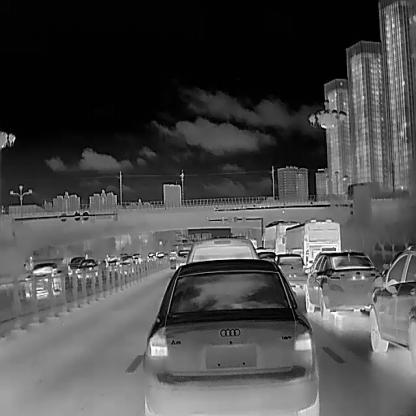car: (143, 258, 319, 415), (369, 245, 416, 365), (304, 251, 380, 320), (281, 218, 341, 269), (23, 261, 61, 299), (260, 219, 300, 255), (275, 253, 307, 285), (74, 258, 100, 277), (117, 255, 133, 275), (104, 254, 116, 270), (146, 250, 156, 261)
